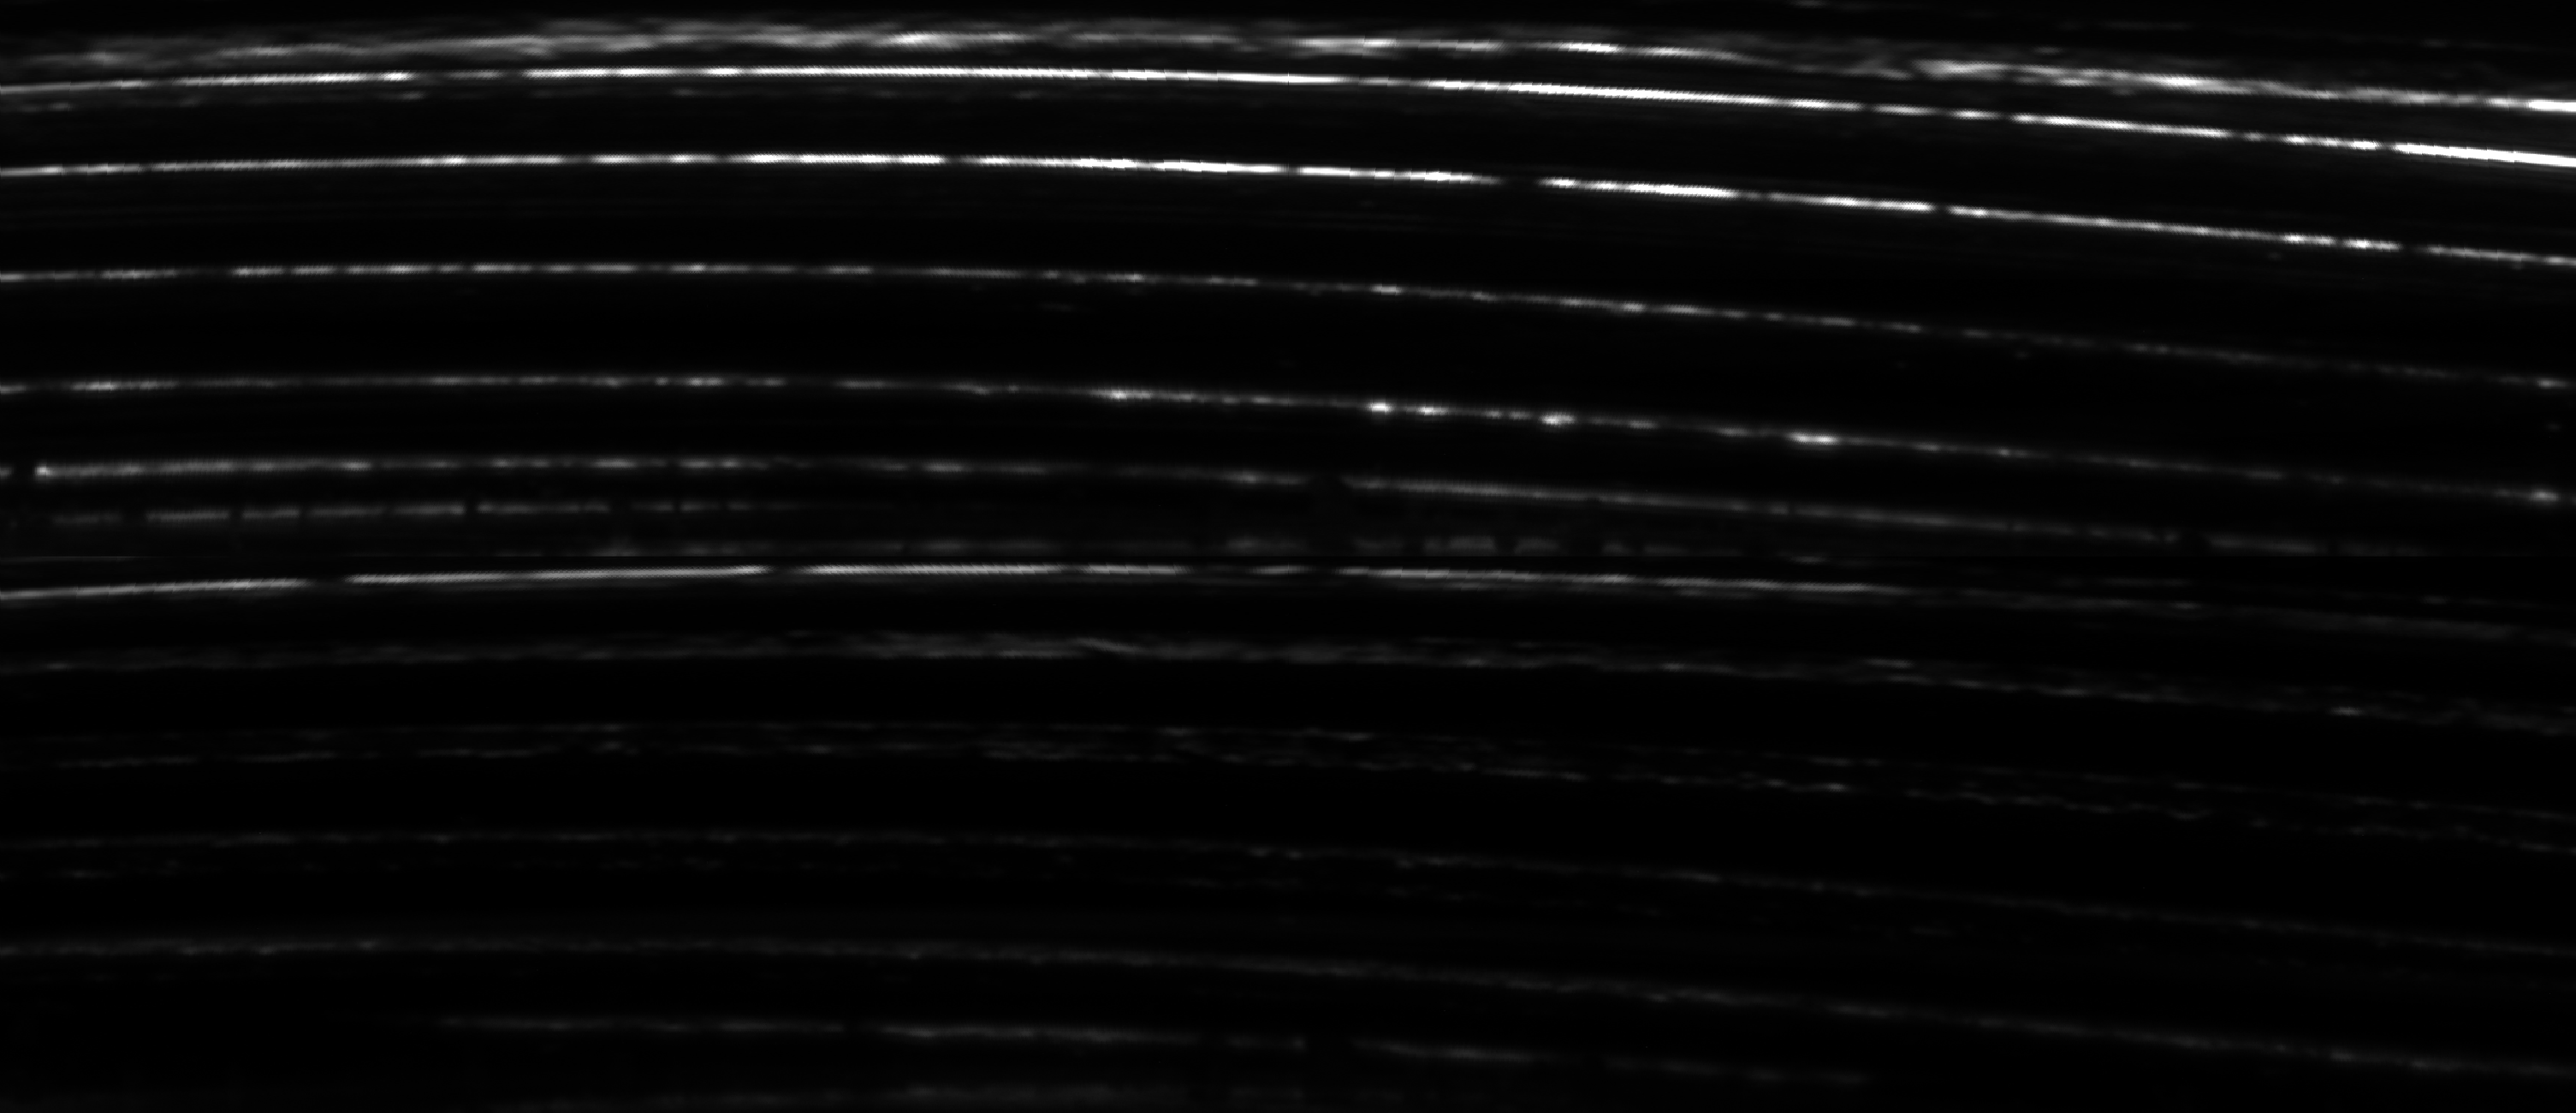extensive chipped: (33, 613, 2556, 1064), (18, 204, 2564, 585)
